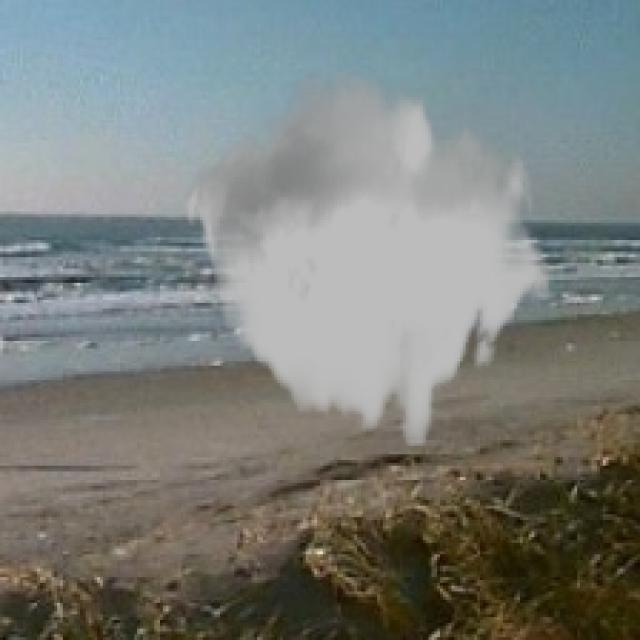Smoke: (183, 71, 552, 446)
